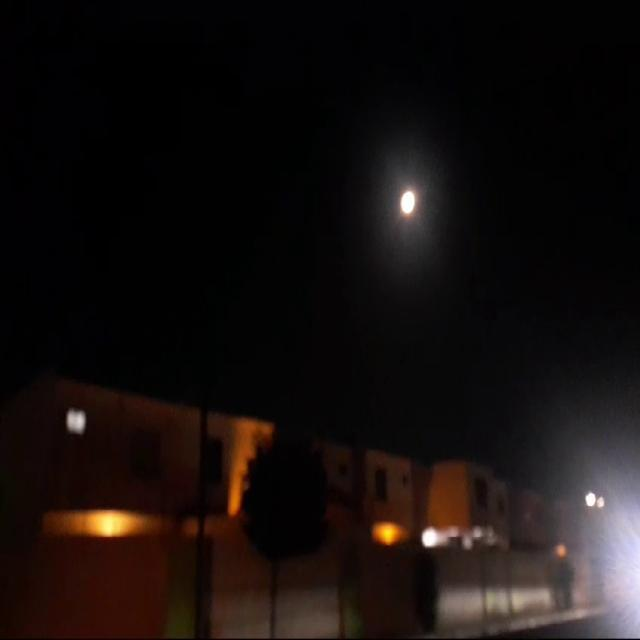moon: (398, 187, 417, 221)
